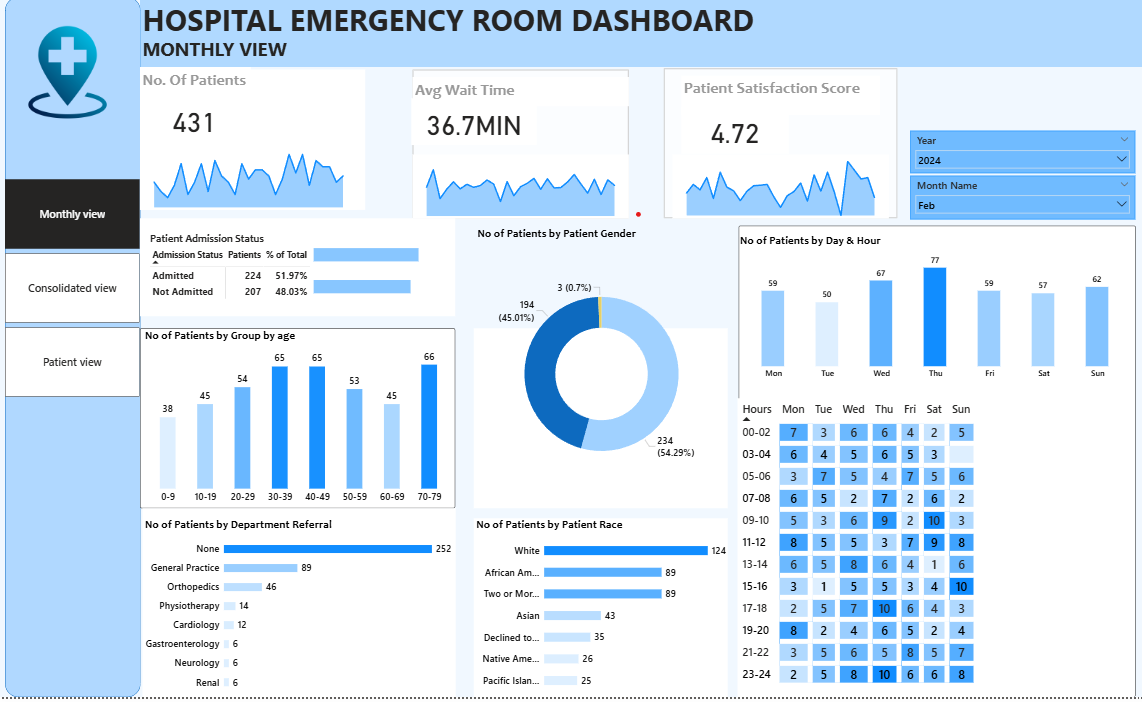

The dashboard page shown, as its layout file describes it:
{"tool":"powerbi","page":{"name":"Monthly view","canvas":[2300,1400],"ordinal":0},"visuals":[{"type":"shape","box":[9.9,0,271.2,1400.5],"z":0},{"type":"shape","box":[281.1,0,2019.4,140],"z":1000},{"type":"textbox","box":[281.1,0,2019.4,140.5],"z":2000},{"type":"textbox","box":[281.1,71.5,303.3,69],"z":3000},{"type":"textbox","box":[280.4,145.7,450,280.4],"z":4000},{"type":"card","fields":{"Values":["Hospital ER_Data (1).No of Patients"]},"box":[281.1,197.3,217,93.7],"z":5000},{"type":"slicer","fields":{"Values":["Date Table.Year"]},"box":[1819.6,267.4,450,84.8],"z":6000},{"type":"slicer","fields":{"Values":["Date Table.Month Name"]},"box":[1819.6,356.5,450,87],"z":7000},{"type":"textbox","box":[281.1,140.5,221.9,78.9],"z":8000},{"type":"areaChart","fields":{"Category":["Date Table.Date.Variation.Date Hierarchy.Day"],"Y":["Hospital ER_Data (1).No of Patients"]},"box":[280.4,282.6,434.8,143.5],"z":9000},{"type":"shape","box":[823.9,145.7,432.6,297.8],"z":10000},{"type":"card","fields":{"Values":["Hospital ER_Data (1).Avg Wait Time"]},"box":[823.5,202.2,251.5,93.7],"z":11000},{"type":"textbox","box":[823.9,160.9,432.6,58.7],"z":12000},{"type":"areaChart","fields":{"Category":["Date Table.Date.Variation.Date Hierarchy.Day"],"Y":["Avg(Hospital ER_Data (1).Patient Waittime)"]},"box":[823.9,315.2,432.6,128.3],"z":13000},{"type":"shape","box":[1328.3,143.5,467.4,300],"z":14000},{"type":"card","fields":{"Values":["Hospital ER_Data (1).Satisfaction Score"]},"box":[1363,219.6,215.2,93.5],"z":15000},{"type":"textbox","box":[1363,158.7,397.8,78.3],"z":16000},{"type":"areaChart","fields":{"Category":["Date Table.Date.Variation.Date Hierarchy.Day"],"Y":["Hospital ER_Data (1).Satisfaction Score"]},"box":[1345.7,315.2,432.6,128.3],"z":17000},{"type":"textbox","box":[280.4,443.5,630.4,195.7],"z":18000},{"type":"pivotTable","title":"Patient Admission Status","fields":{"Rows":["Hospital ER_Data (1).Admission Status"],"Values":["Hospital ER_Data (1).No of Patients1","Hospital ER_Data (1).No of Patients"]},"box":[295.9,470.9,586.8,150.4],"z":19000},{"type":"barChart","fields":{"Category":["Hospital ER_Data (1).Admission Status"],"Y":["Hospital ER_Data (1).No of Patients"]},"box":[621.4,458.6,291,177.5],"z":20000},{"type":"textbox","box":[281.1,663.3,630,360],"z":21000},{"type":"clusteredColumnChart","fields":{"Category":["Hospital ER_Data (1).Group by age"],"Y":["Hospital ER_Data (1).No of Patients"]},"box":[286,663.3,626.3,360],"z":22000},{"type":"textbox","box":[286,1023.3,626.3,377.3],"z":23000},{"type":"clusteredBarChart","fields":{"Category":["Hospital ER_Data (1).Department Referral"],"Y":["Hospital ER_Data (1).No of Patients"]},"box":[286,1040.5,626.3,360],"z":24000},{"type":"textbox","box":[946.8,663.3,507.9,360],"z":25000},{"type":"donutChart","fields":{"Y":["Hospital ER_Data (1).No of Patients"],"Category":["Hospital ER_Data (1).Patient Gender"]},"box":[950,458.7,506.5,565.2],"z":26000},{"type":"textbox","box":[1477,458.6,794,941.9],"z":27000},{"type":"textbox","box":[946.8,1043,507.9,357.5],"z":28000},{"type":"clusteredBarChart","fields":{"Y":["Hospital ER_Data (1).No of Patients"],"Category":["Hospital ER_Data (1).Patient Race"]},"box":[946.8,1040.5,510.4,360],"z":29000},{"type":"pivotTable","fields":{"Rows":["Hospital ER_Data (1).Waittime Interval"],"Columns":["Date Table.Day Name"],"Values":["Hospital ER_Data (1).No of Patients"]},"box":[1476.1,802.2,793.5,597.8],"z":30000},{"type":"columnChart","title":"No of Patients by Day & Hour","fields":{"Category":["Date Table.Day Name"],"Y":["Hospital ER_Data (1).No of Patients"]},"box":[1476.1,471.7,793.5,302.2],"z":31000},{"type":"image","box":[37,41.3,195.7,215.2],"z":32000},{"type":"pageNavigator","box":[10.9,365.2,269.6,437],"z":33000}]}

Visuals, with their boxes in screenshot pixels (x1, y1, x2, y2), scaled from the page's 2300x1400 canvas onto the 1142x702 screenshot:
shape: 5 0 140 701
shape: 140 0 1141 70
textbox: 140 0 1141 70
textbox: 140 36 290 70
textbox: 139 73 363 214
card - Hospital ER_Data (1).No of Patients: 140 99 247 146
slicer - Date Table.Year: 903 134 1127 177
slicer - Date Table.Month Name: 903 179 1127 222
textbox: 140 70 250 110
areaChart - Date Table.Date.Variation.Date Hierarchy.Day x Hospital ER_Data (1).No of Patients: 139 142 355 214
shape: 409 73 624 222
card - Hospital ER_Data (1).Avg Wait Time: 409 101 534 148
textbox: 409 81 624 110
areaChart - Date Table.Date.Variation.Date Hierarchy.Day x Avg(Hospital ER_Data (1).Patient Waittime): 409 158 624 222
shape: 660 72 892 222
card - Hospital ER_Data (1).Satisfaction Score: 677 110 784 157
textbox: 677 80 874 119
areaChart - Date Table.Date.Variation.Date Hierarchy.Day x Hospital ER_Data (1).Satisfaction Score: 668 158 883 222
textbox: 139 222 452 321
"Patient Admission Status" pivotTable: 147 236 438 312
barChart - Hospital ER_Data (1).Admission Status x Hospital ER_Data (1).No of Patients: 309 230 453 319
textbox: 140 333 452 513
clusteredColumnChart - Hospital ER_Data (1).Group by age x Hospital ER_Data (1).No of Patients: 142 333 453 513
textbox: 142 513 453 701
clusteredBarChart - Hospital ER_Data (1).Department Referral x Hospital ER_Data (1).No of Patients: 142 522 453 701
textbox: 470 333 722 513
donutChart - Hospital ER_Data (1).No of Patients x Hospital ER_Data (1).Patient Gender: 472 230 723 513
textbox: 733 230 1128 701
textbox: 470 523 722 701
clusteredBarChart - Hospital ER_Data (1).No of Patients x Hospital ER_Data (1).Patient Race: 470 522 724 701
pivotTable - Hospital ER_Data (1).Waittime Interval x Date Table.Day Name: 733 402 1127 701
"No of Patients by Day & Hour" columnChart: 733 237 1127 388
image: 18 21 116 129
pageNavigator: 5 183 139 402
